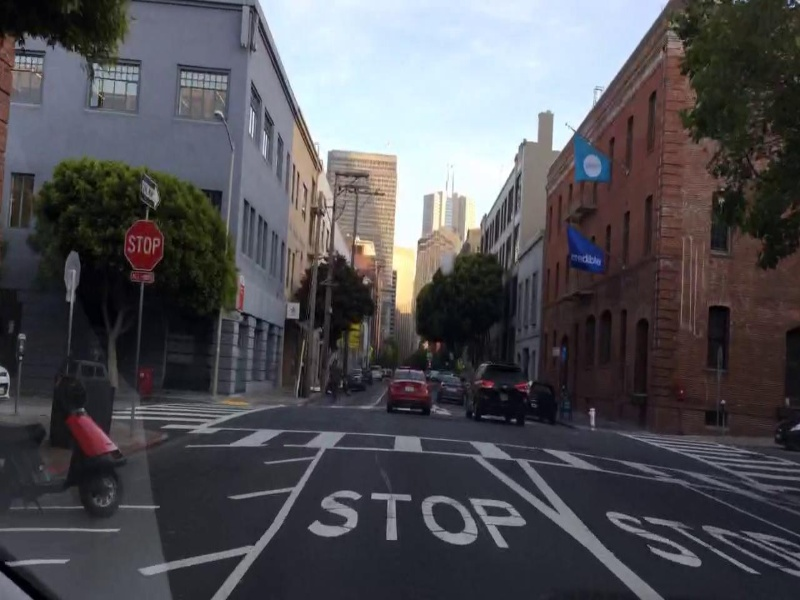car: (467, 359, 531, 431), (384, 361, 434, 418), (524, 383, 565, 425), (433, 373, 469, 407)
